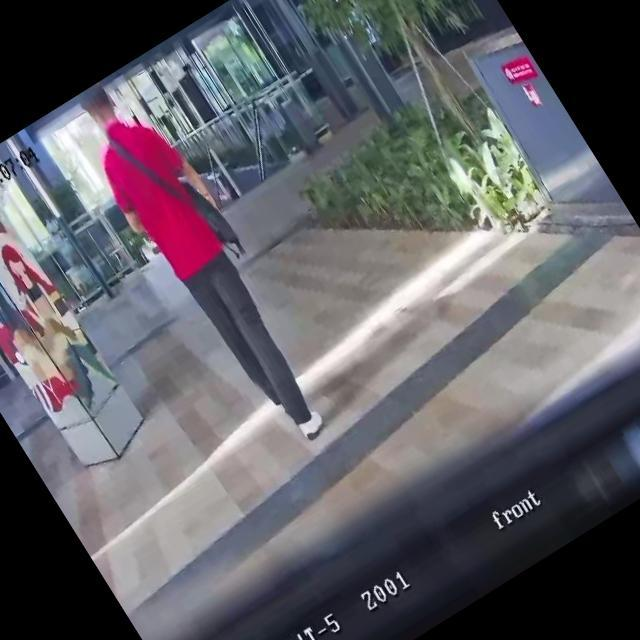person: (56, 63, 352, 462)
